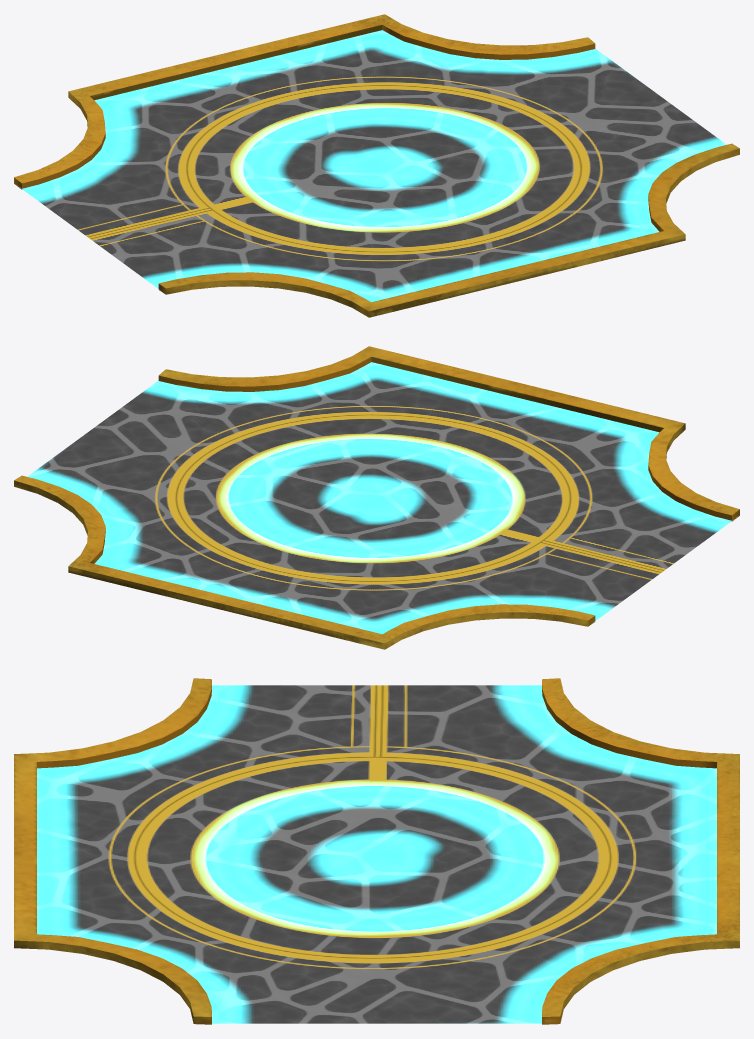
Rendered from BuyukZemin.fbx.
3 views of the same model, one above another, from view 1: azimuth 30°, elevation 25°; view 2: azimuth 150°, elevation 25°; view 3: azimuth 270°, elevation 25° (orthographic). The views are drawn at different scales.
Visible parts, largest first — view 1: Circle.001; view 2: Circle.001; view 3: Circle.001.
Boxes of the visible parts, bbox=[...] form: Circle.001: bbox=[14, 14, 739, 317]; Circle.001: bbox=[14, 346, 739, 649]; Circle.001: bbox=[14, 678, 739, 1024].
Size of the model in its own units: 873 by 10.17 by 792.
